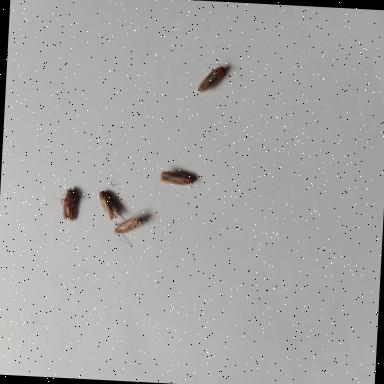pbw: (112, 212, 152, 246), (196, 60, 235, 94), (95, 190, 124, 222), (52, 188, 76, 222), (158, 169, 195, 188)
